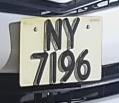1: (48, 50, 59, 86)
6: (75, 48, 92, 83)
7: (28, 50, 50, 88)
9: (58, 50, 75, 86)
N: (44, 18, 62, 53)
Y: (62, 15, 82, 53)
